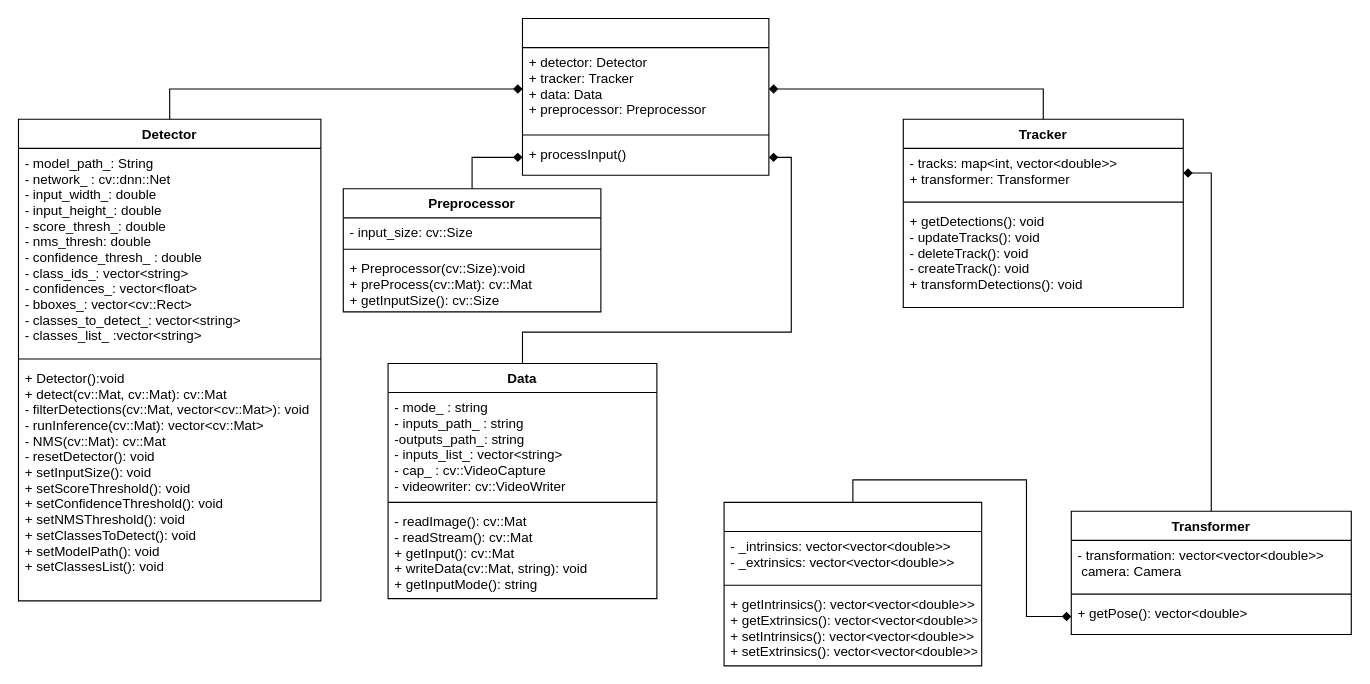
The diagram is 1370 pixels wide and 684 high, and some of its shapes have lost their labels. Here are the shapes that lost their labels. From the top down, the box of each, then its label:
(521, 17, 769, 175): AcmePerception
(723, 501, 982, 666): Camera
